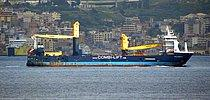Ship: (25, 19, 198, 70)
